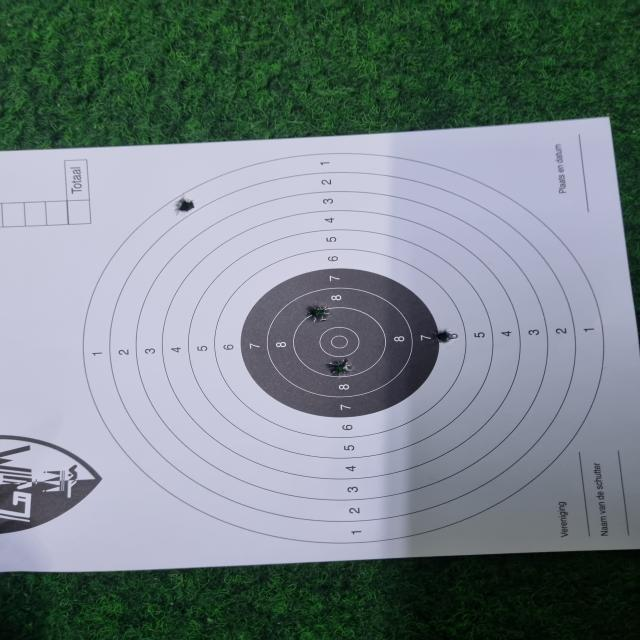1: (173, 192, 196, 216)
7: (431, 328, 454, 344)
9: (326, 358, 353, 377), (305, 305, 329, 324)
Target: (82, 152, 605, 544)
black_contour: (239, 268, 441, 417)
